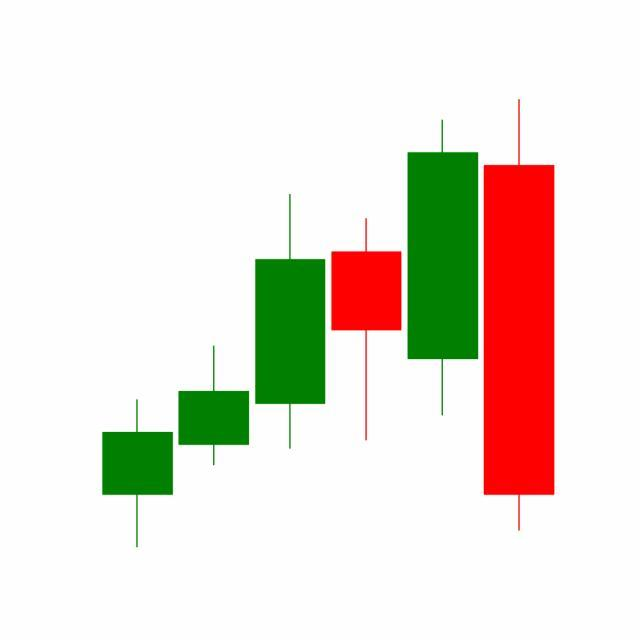Hikkake Pattern: (175, 99, 555, 536)
